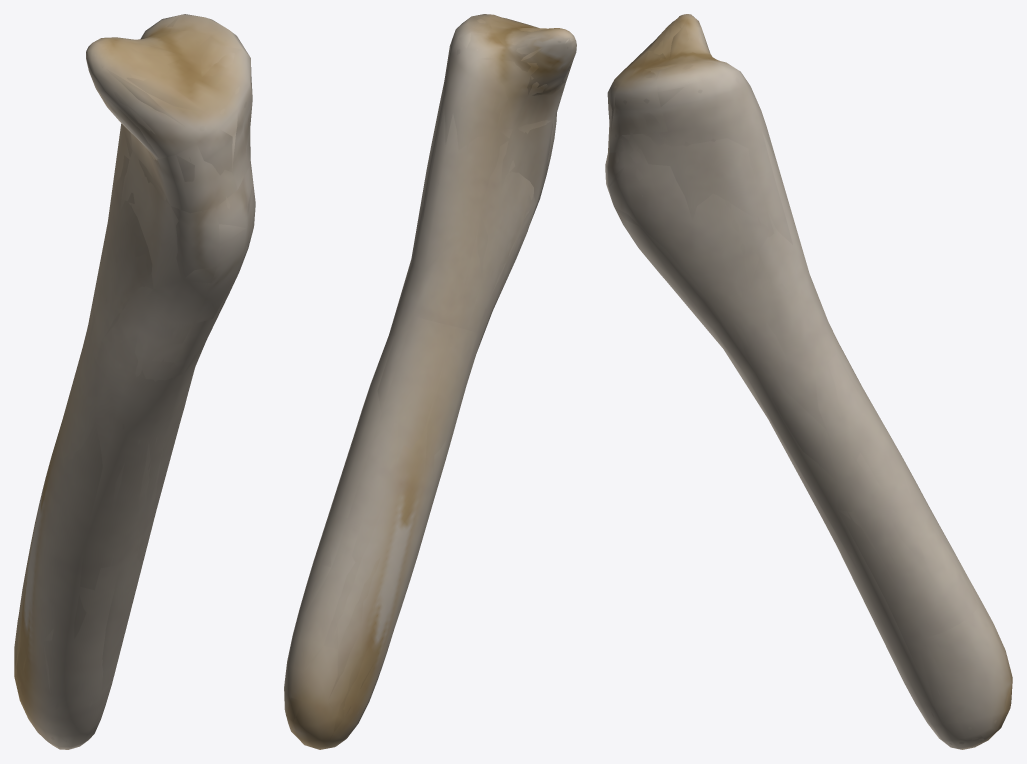
The model's file is R Tibia.fbx.
The picture shows the model from 3 angles, left to right: view 1: azimuth 30°, elevation 25°; view 2: azimuth 150°, elevation 25°; view 3: azimuth 270°, elevation 25°; orthographic projection. The views are drawn at different scales.
Visible parts, largest first — view 1: R Tibia, R Tibia low, R Tibia high; view 2: R Tibia, R Tibia low, R Tibia high; view 3: R Tibia, R Tibia low, R Tibia high.
Part boxes in pixels (box(x1,y1,x2,y2)): R Tibia: box(14, 14, 255, 749); R Tibia low: box(14, 14, 252, 748); R Tibia high: box(16, 25, 251, 741); R Tibia: box(284, 14, 576, 749); R Tibia low: box(286, 14, 573, 744); R Tibia high: box(289, 15, 572, 737); R Tibia: box(605, 14, 1012, 749); R Tibia low: box(605, 15, 1012, 749); R Tibia high: box(607, 16, 1008, 747).
Size of the model in its own units: 3.57 by 15.09 by 8.22.
